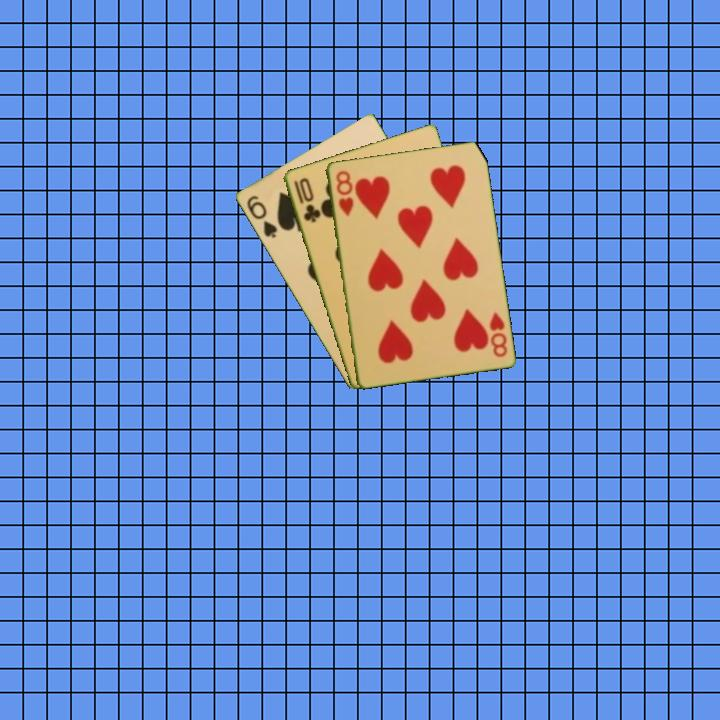10c: (290, 174, 322, 225)
6s: (243, 192, 280, 241)
8h: (332, 167, 356, 219), (486, 308, 510, 360)
